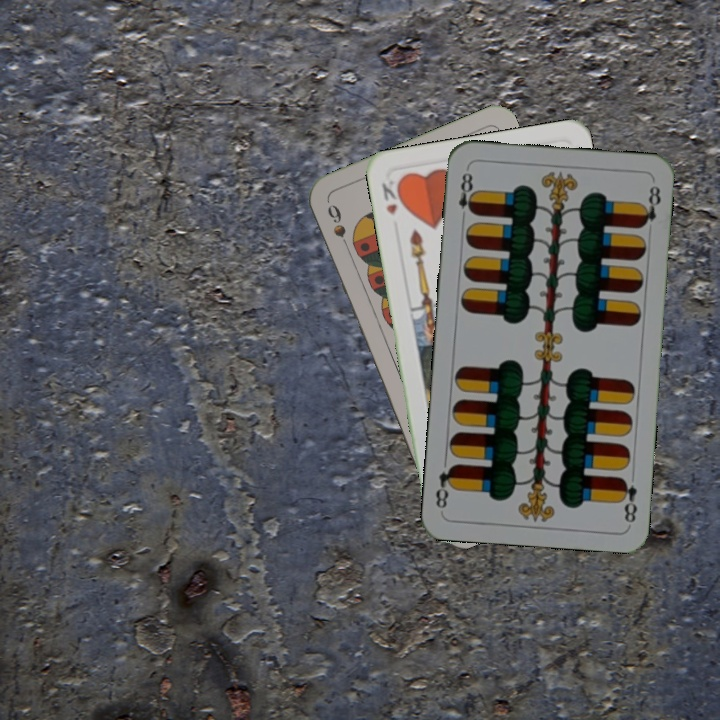E8: (454, 165, 479, 224), (615, 474, 640, 526)
HK: (378, 176, 406, 218)
S9: (323, 200, 354, 256)
